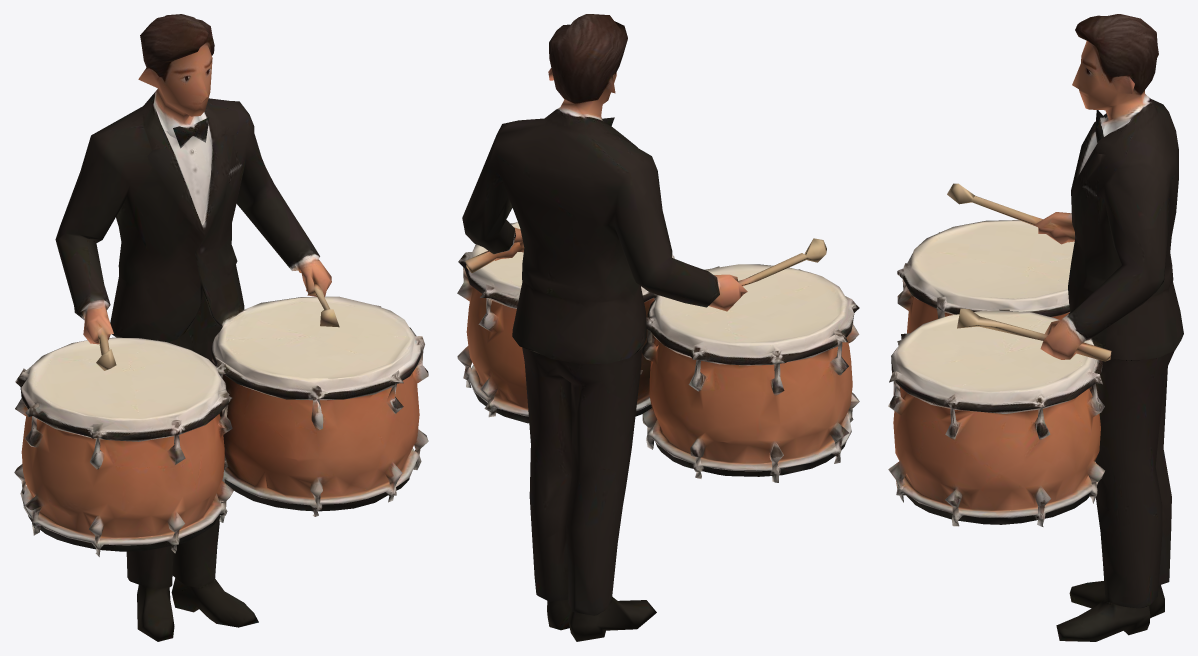
Rendered from timpanist.glb.
The picture shows the model from 3 angles, left to right: view 1: azimuth 30°, elevation 25°; view 2: azimuth 150°, elevation 25°; view 3: azimuth 270°, elevation 25°; orthographic projection.
Parts seen in each view (by area): view 1: tripo_node_fc894712-a5fc-426e-ab49-cec89a34b34e; view 2: tripo_node_fc894712-a5fc-426e-ab49-cec89a34b34e; view 3: tripo_node_fc894712-a5fc-426e-ab49-cec89a34b34e.
Boxes of the visible parts, x1,y1,x2,y2 form: tripo_node_fc894712-a5fc-426e-ab49-cec89a34b34e: (14, 14, 428, 641); tripo_node_fc894712-a5fc-426e-ab49-cec89a34b34e: (457, 14, 859, 641); tripo_node_fc894712-a5fc-426e-ab49-cec89a34b34e: (888, 14, 1183, 641).
Size of the model in its own units: 1.04 by 1.6 by 0.712.
1 material, 1 textured.
